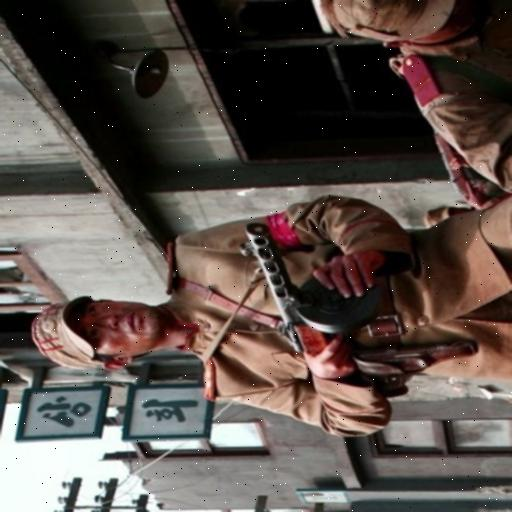north army: (5, 201, 512, 430), (311, 2, 512, 179)
